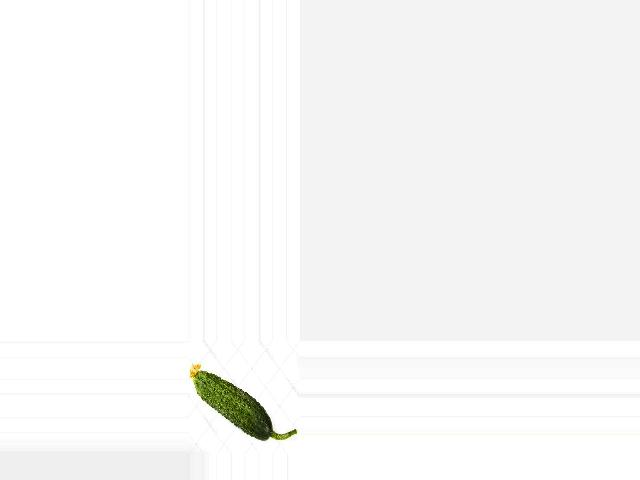cucumber: (188, 363, 295, 441)
